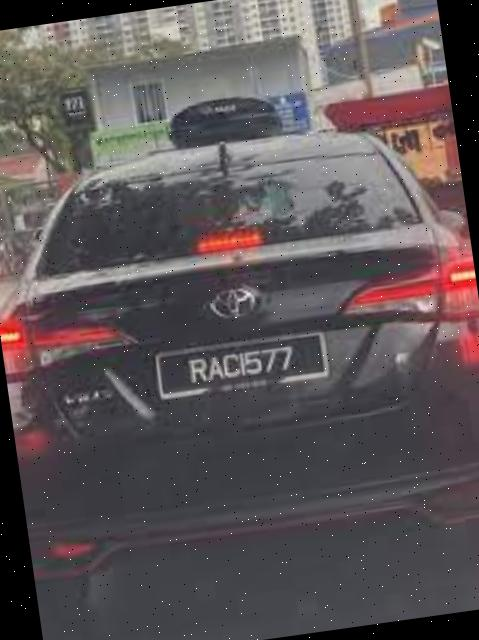License_Plate: (151, 324, 337, 409)
car: (1, 107, 479, 610)
